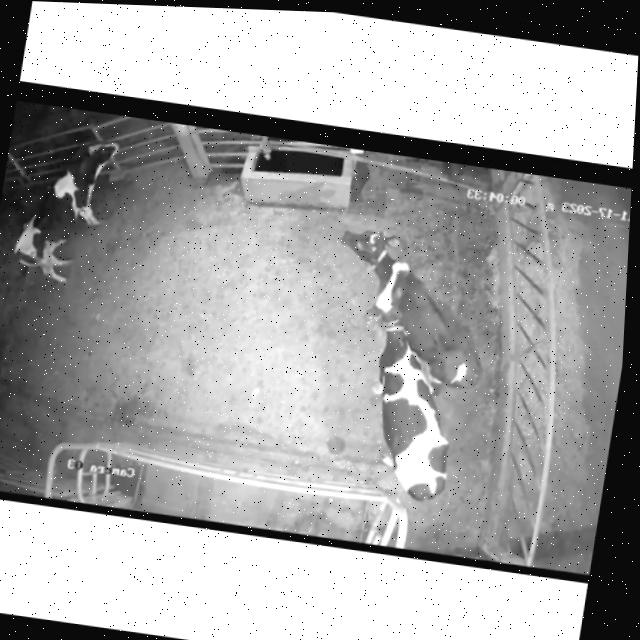propping: (358, 251, 431, 349)
